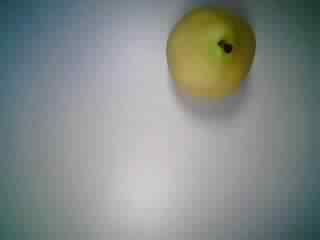pear: (156, 2, 267, 112)
